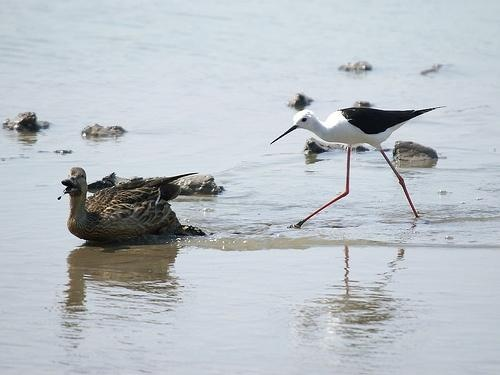bird: (268, 103, 446, 235), (57, 168, 201, 244)
